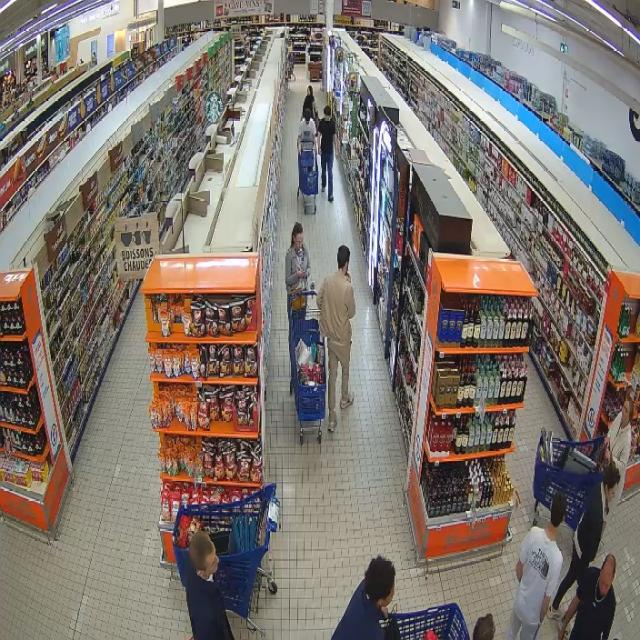bags: (292, 292, 305, 310)
hands: (558, 597, 578, 639), (296, 270, 307, 277)
person: (548, 466, 618, 617), (505, 491, 566, 639), (317, 247, 355, 431), (183, 530, 234, 639), (332, 556, 395, 639), (566, 553, 615, 639), (607, 391, 633, 509), (285, 223, 311, 292), (319, 106, 335, 201), (298, 108, 315, 152), (303, 86, 314, 117)
